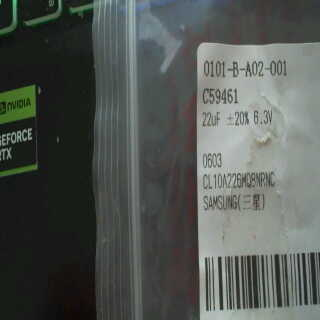22uF: (199, 109, 223, 130)
